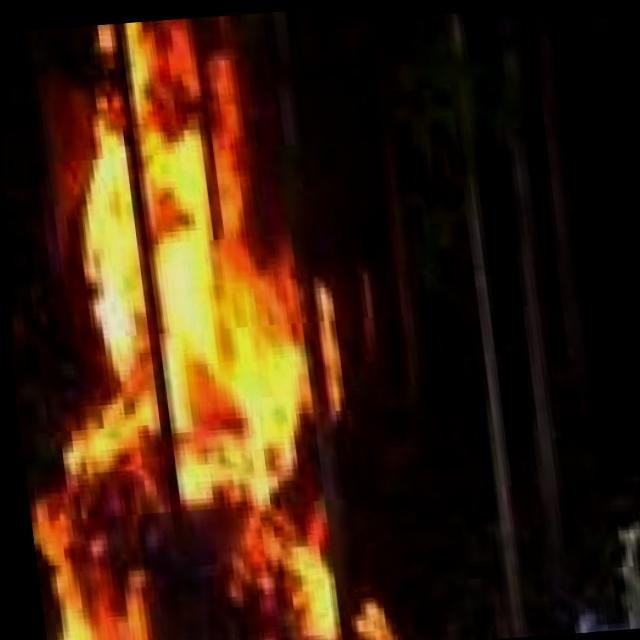fire: (0, 0, 380, 640)
